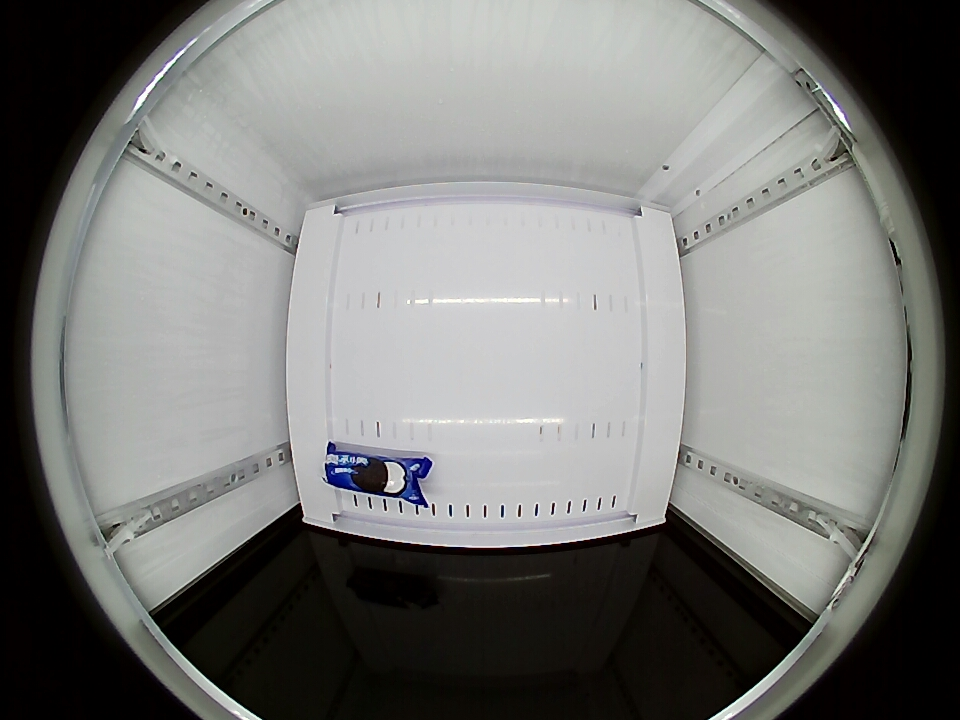aoliao: (322, 449, 429, 505)
